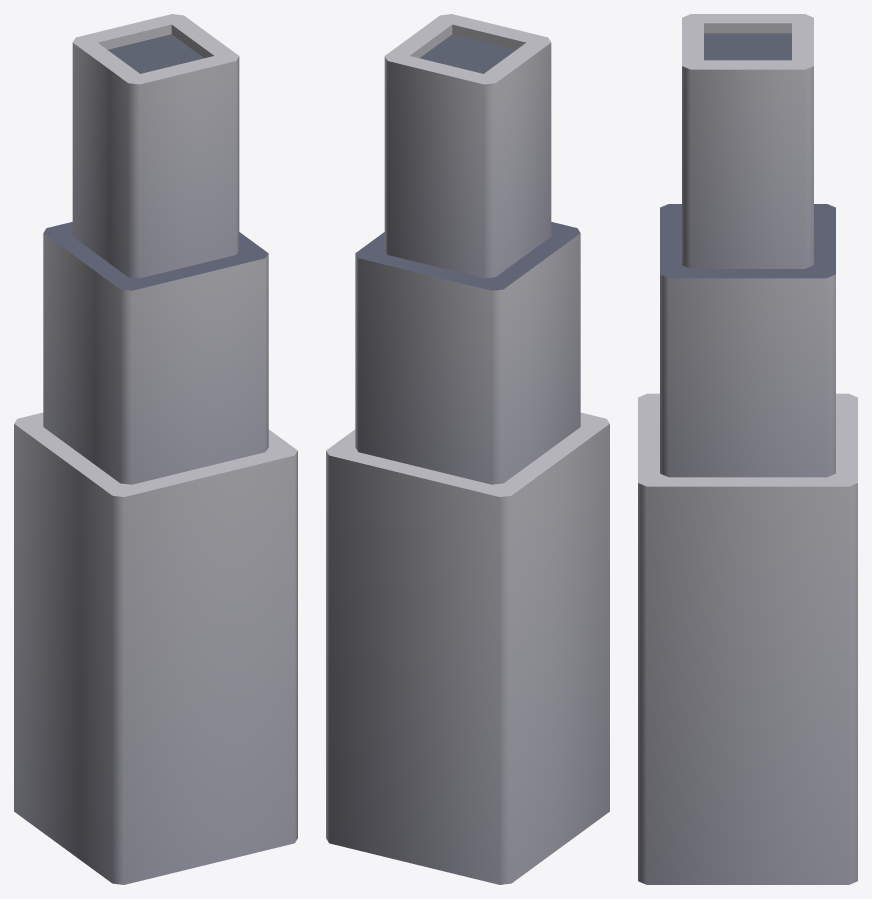
Rendered from low-detail-building-f.glb.
The picture shows the model from 3 angles, left to right: view 1: azimuth 30°, elevation 25°; view 2: azimuth 150°, elevation 25°; view 3: azimuth 270°, elevation 25°; orthographic projection. The views are drawn at different scales.
Visible parts, largest first — view 1: low-detail-building-f; view 2: low-detail-building-f; view 3: low-detail-building-f.
Part boxes in pixels (x1=…): low-detail-building-f: x1=14, y1=14, x2=297, y2=884; low-detail-building-f: x1=326, y1=14, x2=609, y2=884; low-detail-building-f: x1=638, y1=14, x2=857, y2=884.
Size of the model in its own units: 0.5 by 2 by 0.5.
